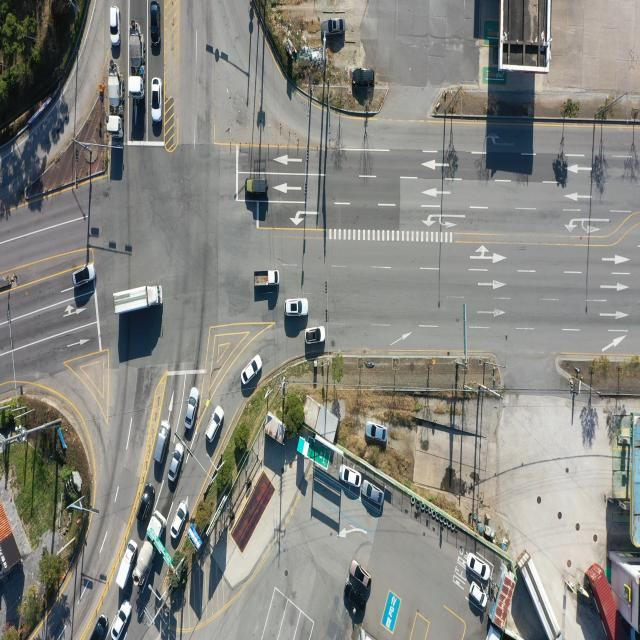car: (110, 600, 132, 639), (156, 420, 172, 466), (204, 404, 223, 442), (345, 584, 365, 618), (241, 354, 262, 386), (171, 500, 188, 539), (168, 442, 185, 481), (184, 387, 199, 431), (138, 485, 155, 523), (350, 559, 371, 588), (72, 264, 95, 290), (470, 554, 492, 581), (470, 582, 489, 610), (321, 20, 346, 40), (150, 77, 161, 121), (341, 464, 362, 487), (363, 484, 384, 507), (364, 422, 387, 442), (284, 300, 308, 318), (91, 616, 109, 640), (352, 68, 376, 86), (150, 1, 159, 48), (306, 327, 326, 347), (245, 178, 268, 195), (110, 6, 119, 45)
medium_truck: (521, 550, 563, 638), (133, 512, 165, 586), (116, 284, 164, 314), (108, 70, 126, 134), (130, 26, 145, 88)
small_truck: (118, 539, 139, 591), (255, 270, 281, 286)
